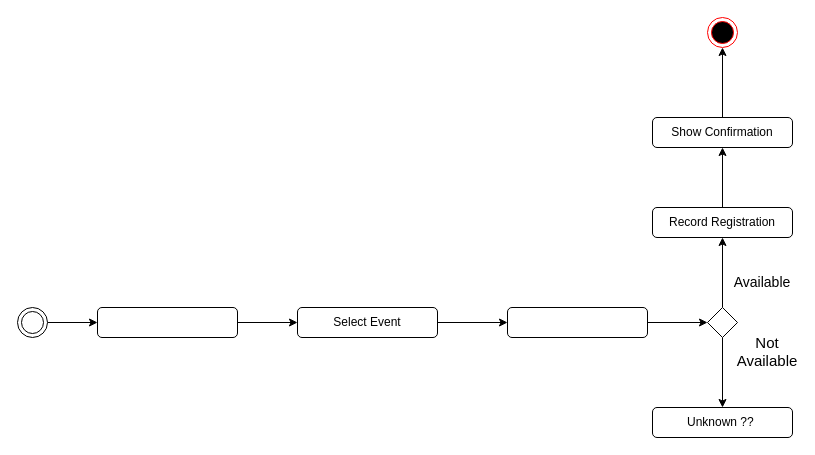
Image size: 815x455. Some labels were removed from this diagram. The box of each missing label's shape, as (x1, y1, x2, y2) in pixels:
Submit Registration: (506, 306, 648, 338)
View Available Events: (96, 306, 238, 338)
